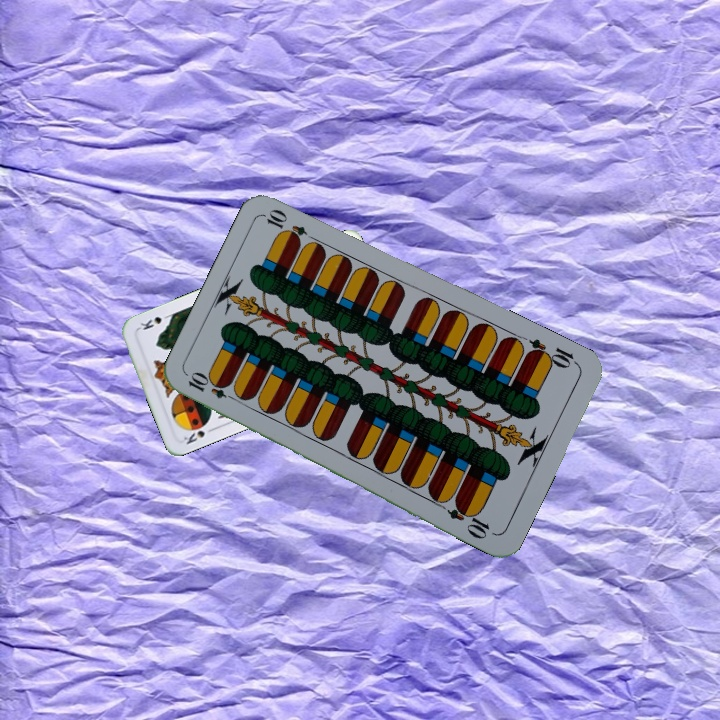E10: (522, 335, 581, 372), (184, 370, 241, 404)
SK: (179, 423, 218, 447)
